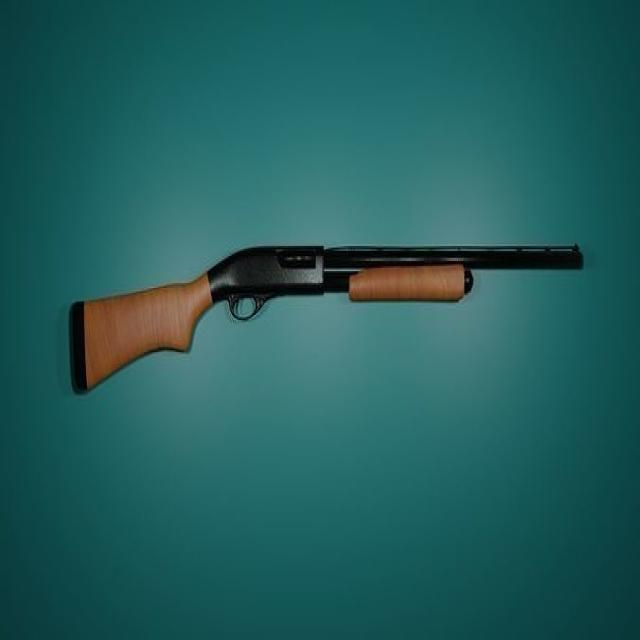ShotGun: (70, 246, 585, 396)
